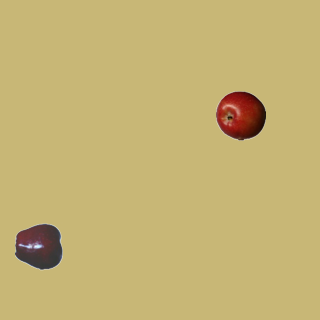Apple Braeburn: (215, 90, 265, 140)
Apple Red Delicious: (14, 221, 64, 271)
